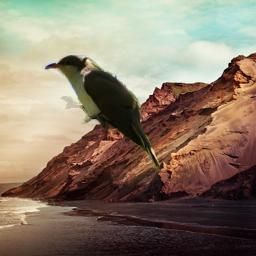Cuckoo: (42, 55, 160, 172)
